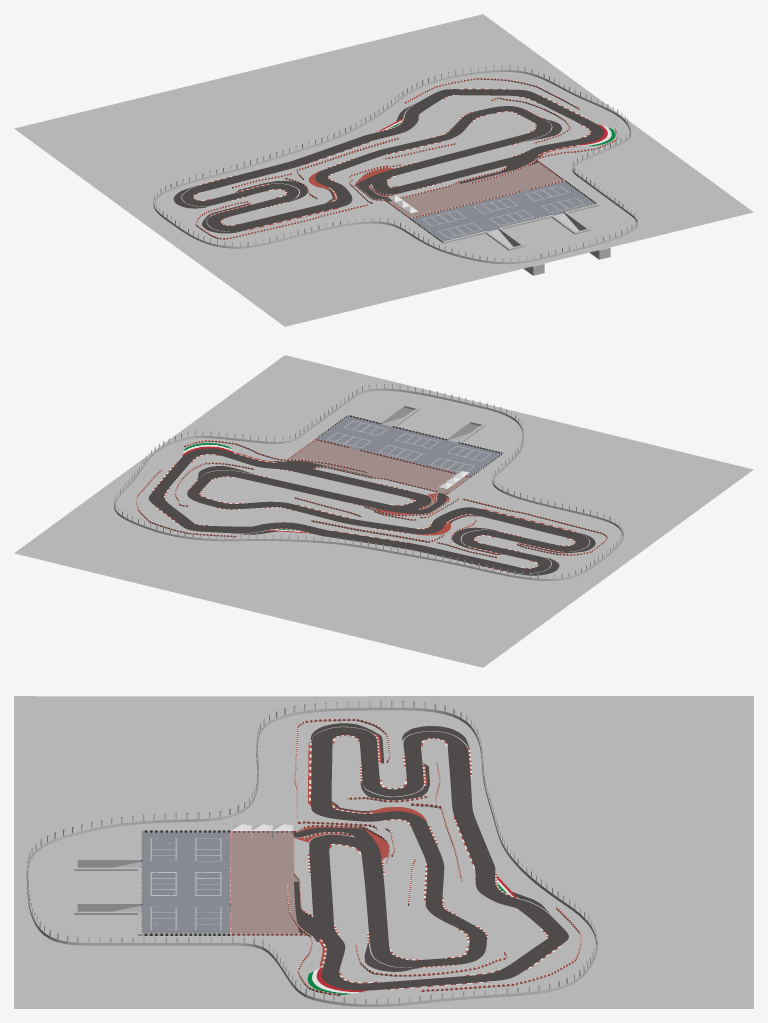
File: racetrack.fbx
3 views of the same model, one above another, from view 1: azimuth 30°, elevation 25°; view 2: azimuth 150°, elevation 25°; view 3: azimuth 270°, elevation 25° (orthographic). The views are drawn at different scales.
Parts seen in each view (by area): view 1: Plane.009, TRACK, Plane.013, PARKING, Cube, TRACK.001, BARRIER3; view 2: Plane.009, TRACK, Plane.013, PARKING, Cube, TRACK.001, BARRIER3; view 3: Plane.009, TRACK, Plane.013, PARKING, Cube, TRACK.001, BARRIER_PITS.003, BARRIER9.
Part boxes in pixels (x1,y1,x2,y2): Plane.009: [14, 14, 753, 326]; TRACK: [173, 88, 615, 233]; Plane.013: [442, 203, 643, 276]; PARKING: [412, 181, 595, 241]; Cube: [153, 65, 638, 264]; TRACK.001: [389, 162, 562, 217]; BARRIER3: [195, 201, 369, 239]; Plane.009: [14, 355, 753, 667]; TRACK: [148, 443, 595, 575]; Plane.013: [348, 382, 549, 453]; PARKING: [317, 416, 500, 475]; Cube: [114, 384, 623, 580]; TRACK.001: [290, 440, 468, 494]; BARRIER3: [462, 498, 607, 555]; Plane.009: [14, 696, 753, 1008]; TRACK: [293, 723, 568, 994]; Plane.013: [14, 830, 141, 935]; PARKING: [141, 832, 230, 933]; Cube: [26, 701, 597, 1006]; TRACK.001: [230, 832, 299, 933]; BARRIER_PITS.003: [141, 830, 229, 935]; BARRIER9: [419, 907, 581, 991].
Bounding box in the file's own units: 452 × 16.51 × 452.
